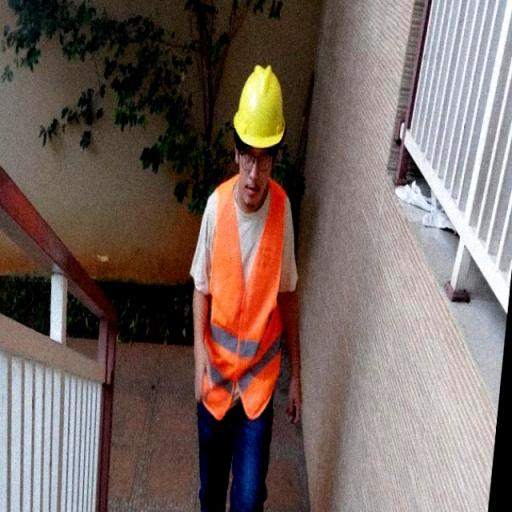Person: (164, 21, 320, 512)
helmet: (231, 62, 292, 150)
none: (285, 356, 316, 434), (189, 330, 220, 406)
vest: (196, 168, 284, 422)
